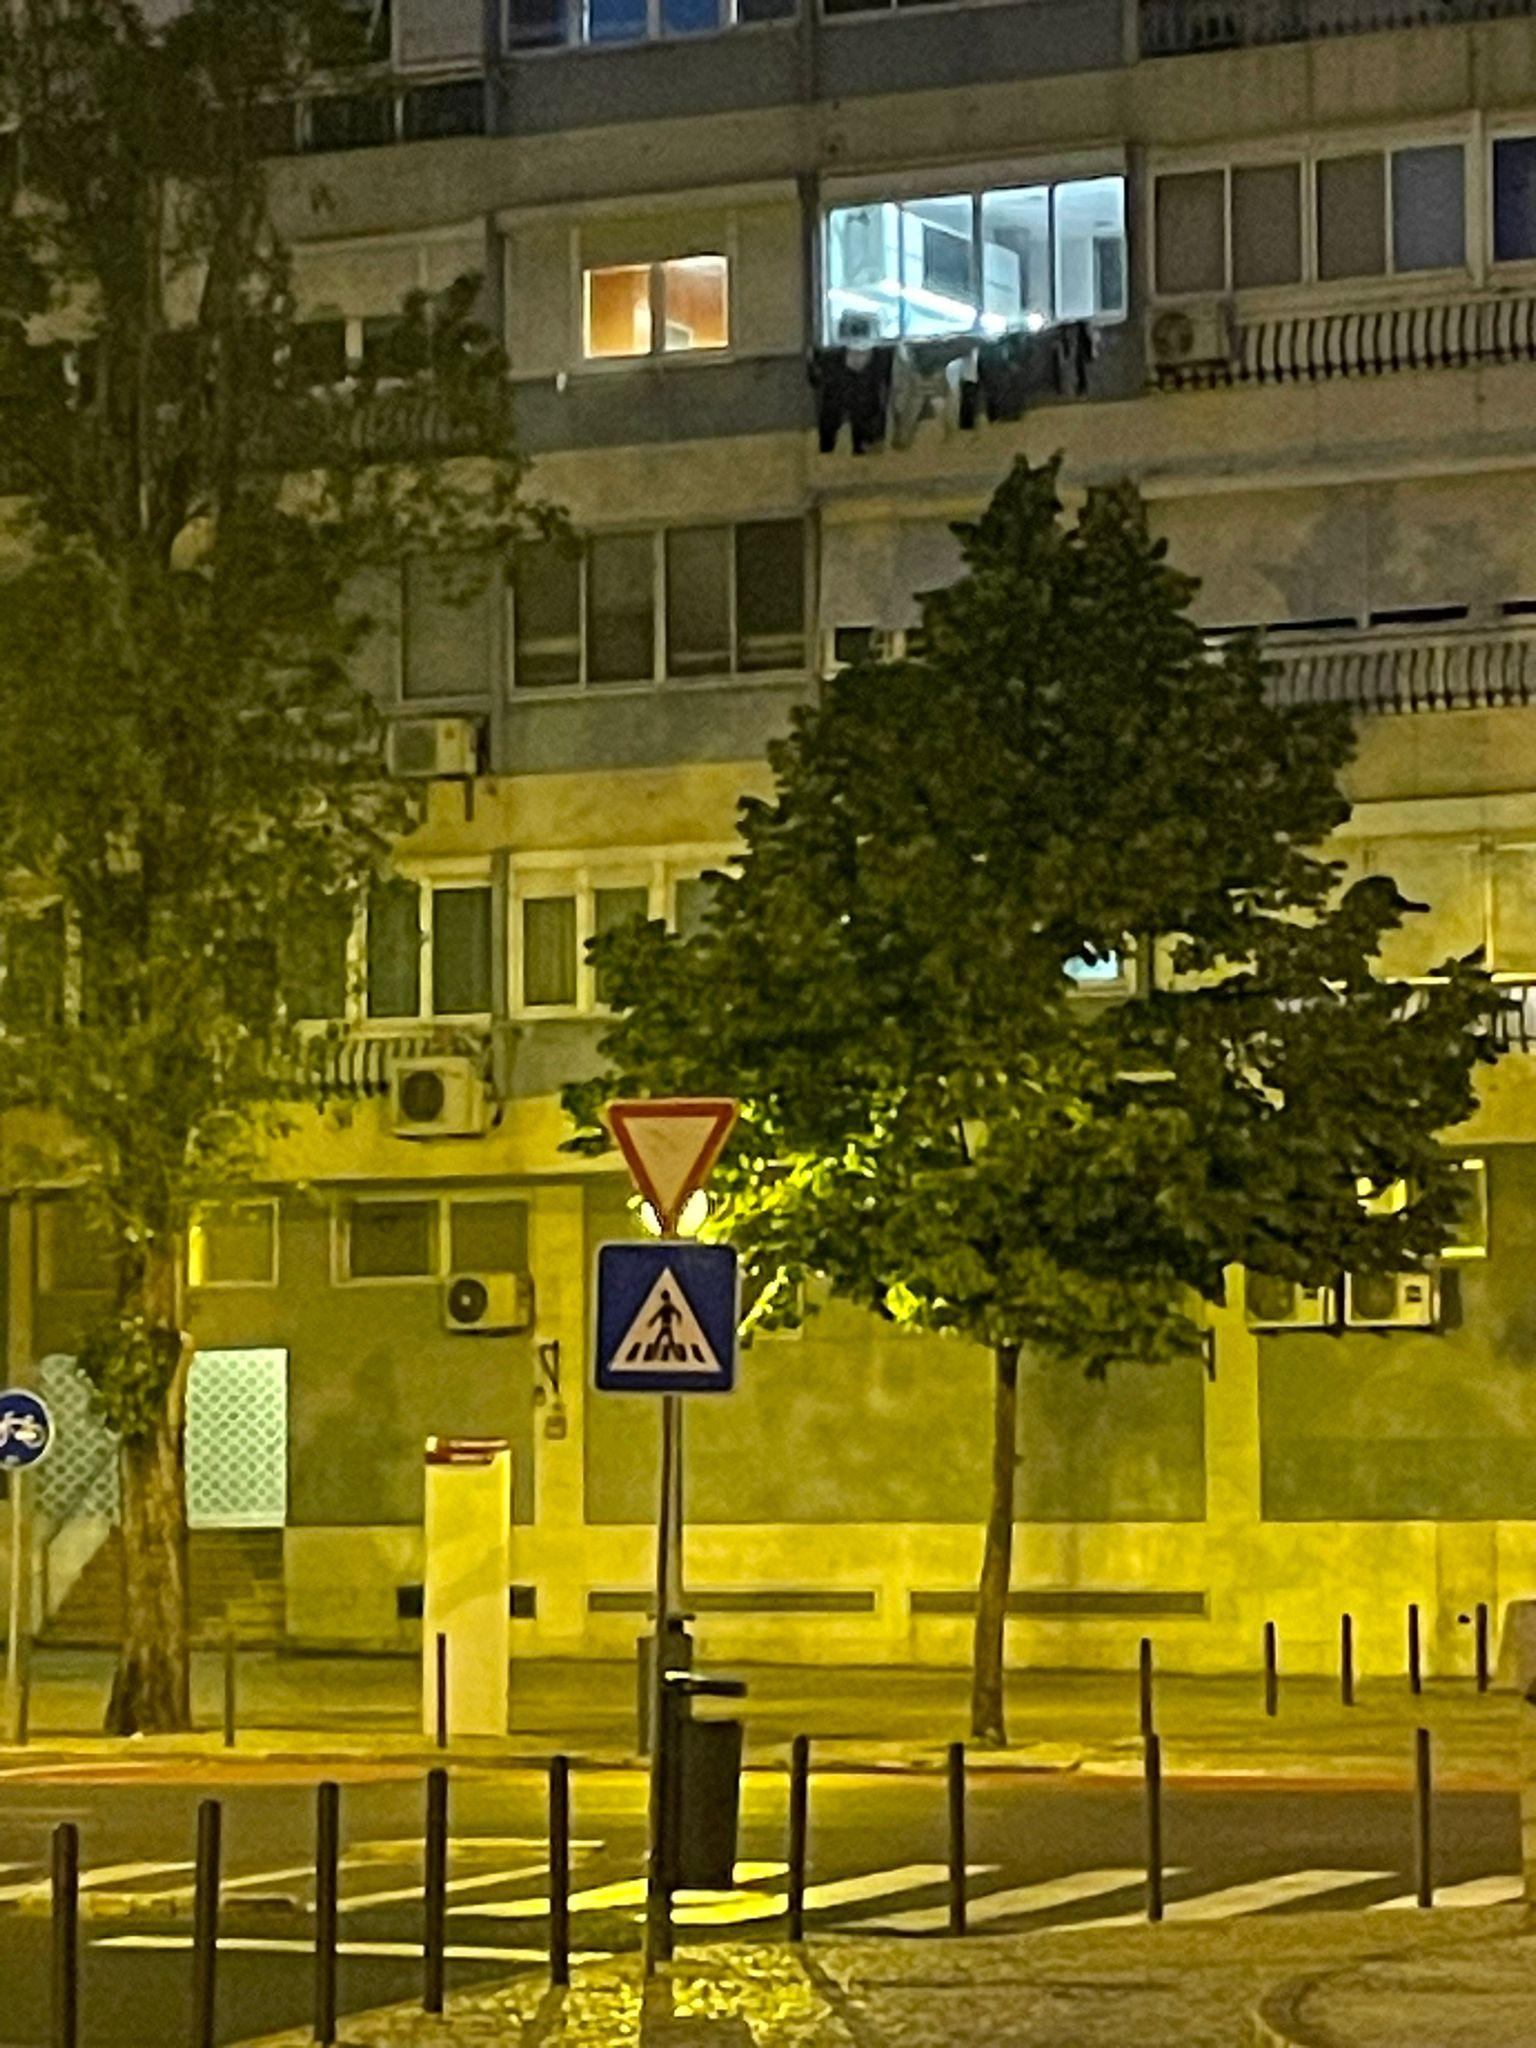Passagem para peoes: (587, 1240, 749, 1411)
cedencia de passagem: (599, 1059, 770, 1240)
